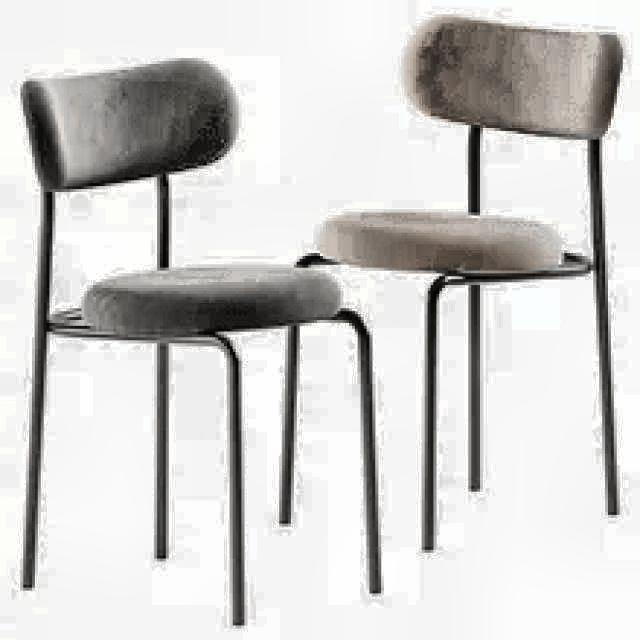cadeira: (6, 58, 382, 634), (276, 8, 628, 557), (298, 0, 636, 332), (18, 70, 372, 368)
